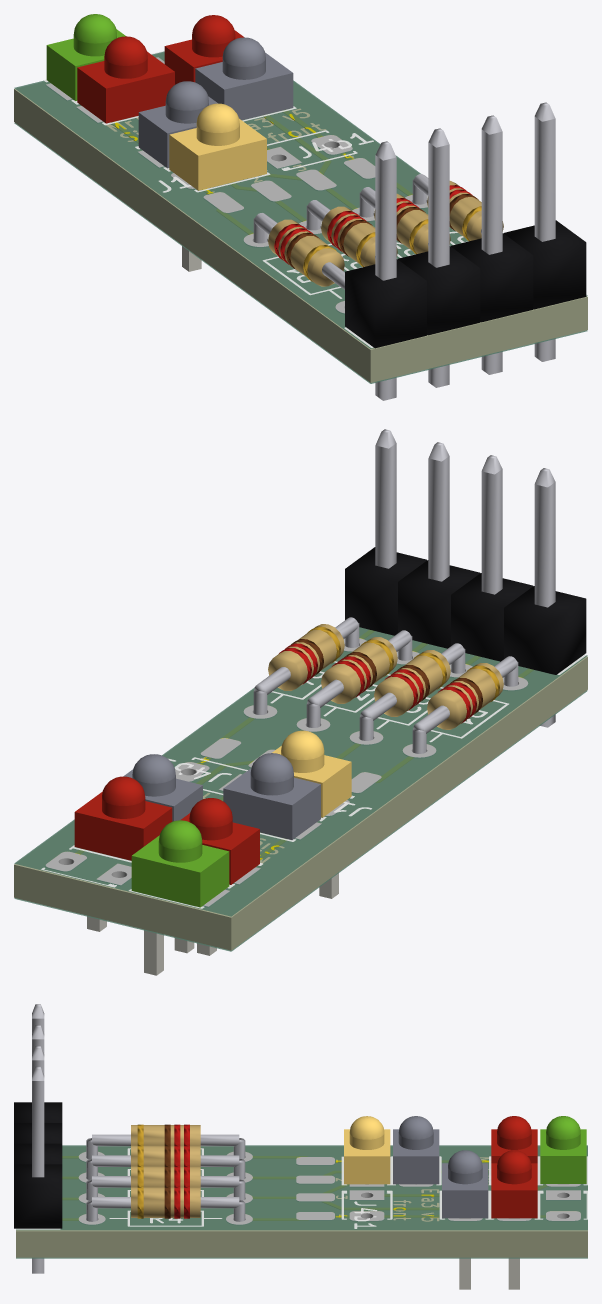
The model's file is MrJ-DB-Era3-breadboard-exit-test-w1.glb.
3 views of the same model, one above another, from view 1: azimuth 30°, elevation 25°; view 2: azimuth 150°, elevation 25°; view 3: azimuth 270°, elevation 25° (orthographic). The views are drawn at different scales.
Parts seen in each view (by area): view 1: =>[0:1:1:19], =>[0:1:1:3] (×4), =>[0:1:1:17], =>[0:1:1:5] (×4), =>[0:1:1:13] (×2), =>[0:1:1:7] (×2), =>[0:1:1:11], =>[0:1:1:15], =>[0:1:1:9], =>[0:1:1:16], =>[0:1:1:14], =>[0:1:1:18]; view 2: =>[0:1:1:19], =>[0:1:1:3] (×4), =>[0:1:1:17], =>[0:1:1:5] (×4), =>[0:1:1:7] (×2), =>[0:1:1:13] (×2), =>[0:1:1:9], =>[0:1:1:15], =>[0:1:1:11], =>[0:1:1:16], =>[0:1:1:14], =>[0:1:1:18]; view 3: =>[0:1:1:19], =>[0:1:1:17], =>[0:1:1:5] (×4), =>[0:1:1:3] (×4), =>[0:1:1:13] (×2), =>[0:1:1:7] (×2), =>[0:1:1:15], =>[0:1:1:11], =>[0:1:1:9], =>[0:1:1:16], =>[0:1:1:18], =>[0:1:1:14].
Boxes of the visible parts, box(x1,y1,x2,y2) form: =>[0:1:1:19]: box(14, 53, 587, 382); =>[0:1:1:3] (×4): box(345, 102, 586, 400); =>[0:1:1:17]: box(14, 51, 587, 348); =>[0:1:1:5] (×4): box(253, 174, 503, 289); =>[0:1:1:13] (×2): box(138, 37, 293, 168); =>[0:1:1:7] (×2): box(77, 15, 243, 123); =>[0:1:1:11]: box(169, 103, 266, 271); =>[0:1:1:15]: box(46, 57, 427, 313); =>[0:1:1:9]: box(46, 14, 125, 100); =>[0:1:1:16]: box(43, 50, 586, 347); =>[0:1:1:14]: box(112, 111, 412, 234); =>[0:1:1:18]: box(14, 123, 587, 383); =>[0:1:1:19]: box(14, 628, 587, 950); =>[0:1:1:3] (×4): box(345, 429, 586, 727); =>[0:1:1:17]: box(14, 627, 587, 916); =>[0:1:1:5] (×4): box(253, 617, 518, 753); =>[0:1:1:7] (×2): box(74, 776, 259, 953); =>[0:1:1:13] (×2): box(123, 753, 320, 839); =>[0:1:1:9]: box(131, 820, 229, 975); =>[0:1:1:15]: box(45, 638, 528, 906); =>[0:1:1:11]: box(272, 730, 351, 898); =>[0:1:1:16]: box(41, 654, 586, 908); =>[0:1:1:14]: box(75, 630, 532, 860); =>[0:1:1:18]: box(14, 690, 587, 951); =>[0:1:1:19]: box(16, 1147, 587, 1257); =>[0:1:1:17]: box(16, 1145, 587, 1230); =>[0:1:1:5] (×4): box(86, 1124, 245, 1221); =>[0:1:1:3] (×4): box(14, 1004, 62, 1273); =>[0:1:1:13] (×2): box(393, 1116, 488, 1289); =>[0:1:1:7] (×2): box(491, 1116, 537, 1289); =>[0:1:1:15]: box(78, 1152, 580, 1224); =>[0:1:1:11]: box(344, 1116, 390, 1184); =>[0:1:1:9]: box(540, 1116, 586, 1184); =>[0:1:1:16]: box(16, 1148, 587, 1229); =>[0:1:1:18]: box(16, 1257, 587, 1258); =>[0:1:1:14]: box(63, 1156, 546, 1220).
Bounding box in the file's own units: 0.0104 × 0.0127 × 0.0297.
